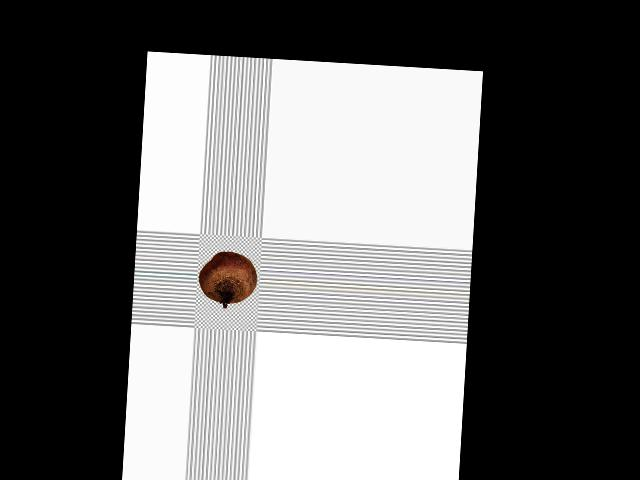beet: (197, 250, 257, 310)
